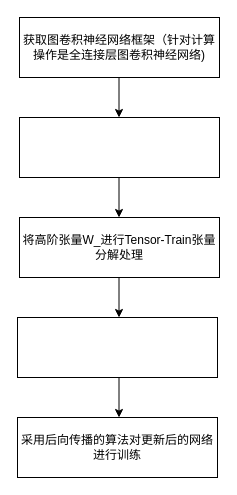
This 237x495 diagram has some shape labels left out. Each missing label, with the box of its shape:
将图卷积操作中的全连接层替换为Tensor-Train分解层: (16, 316, 218, 378)
将权重矩阵大W和输入向量大x分别转化为高阶张量W_和x_: (18, 116, 220, 178)
